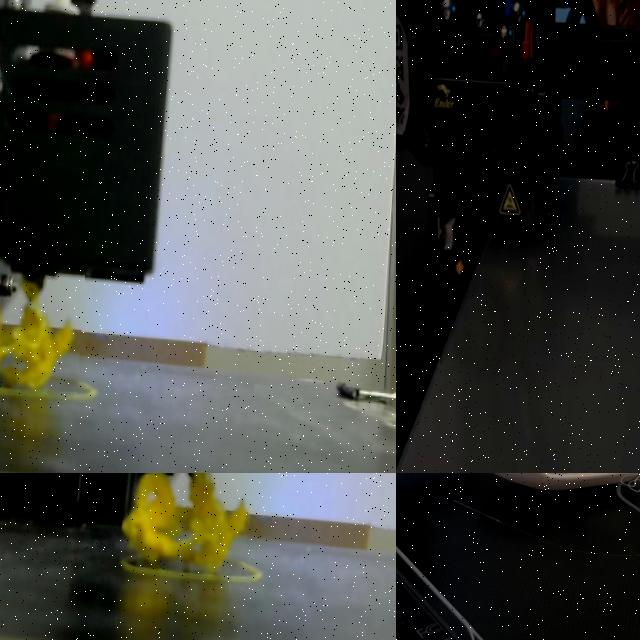spaghetti: (424, 473, 640, 538), (122, 473, 248, 569), (0, 264, 84, 395)
